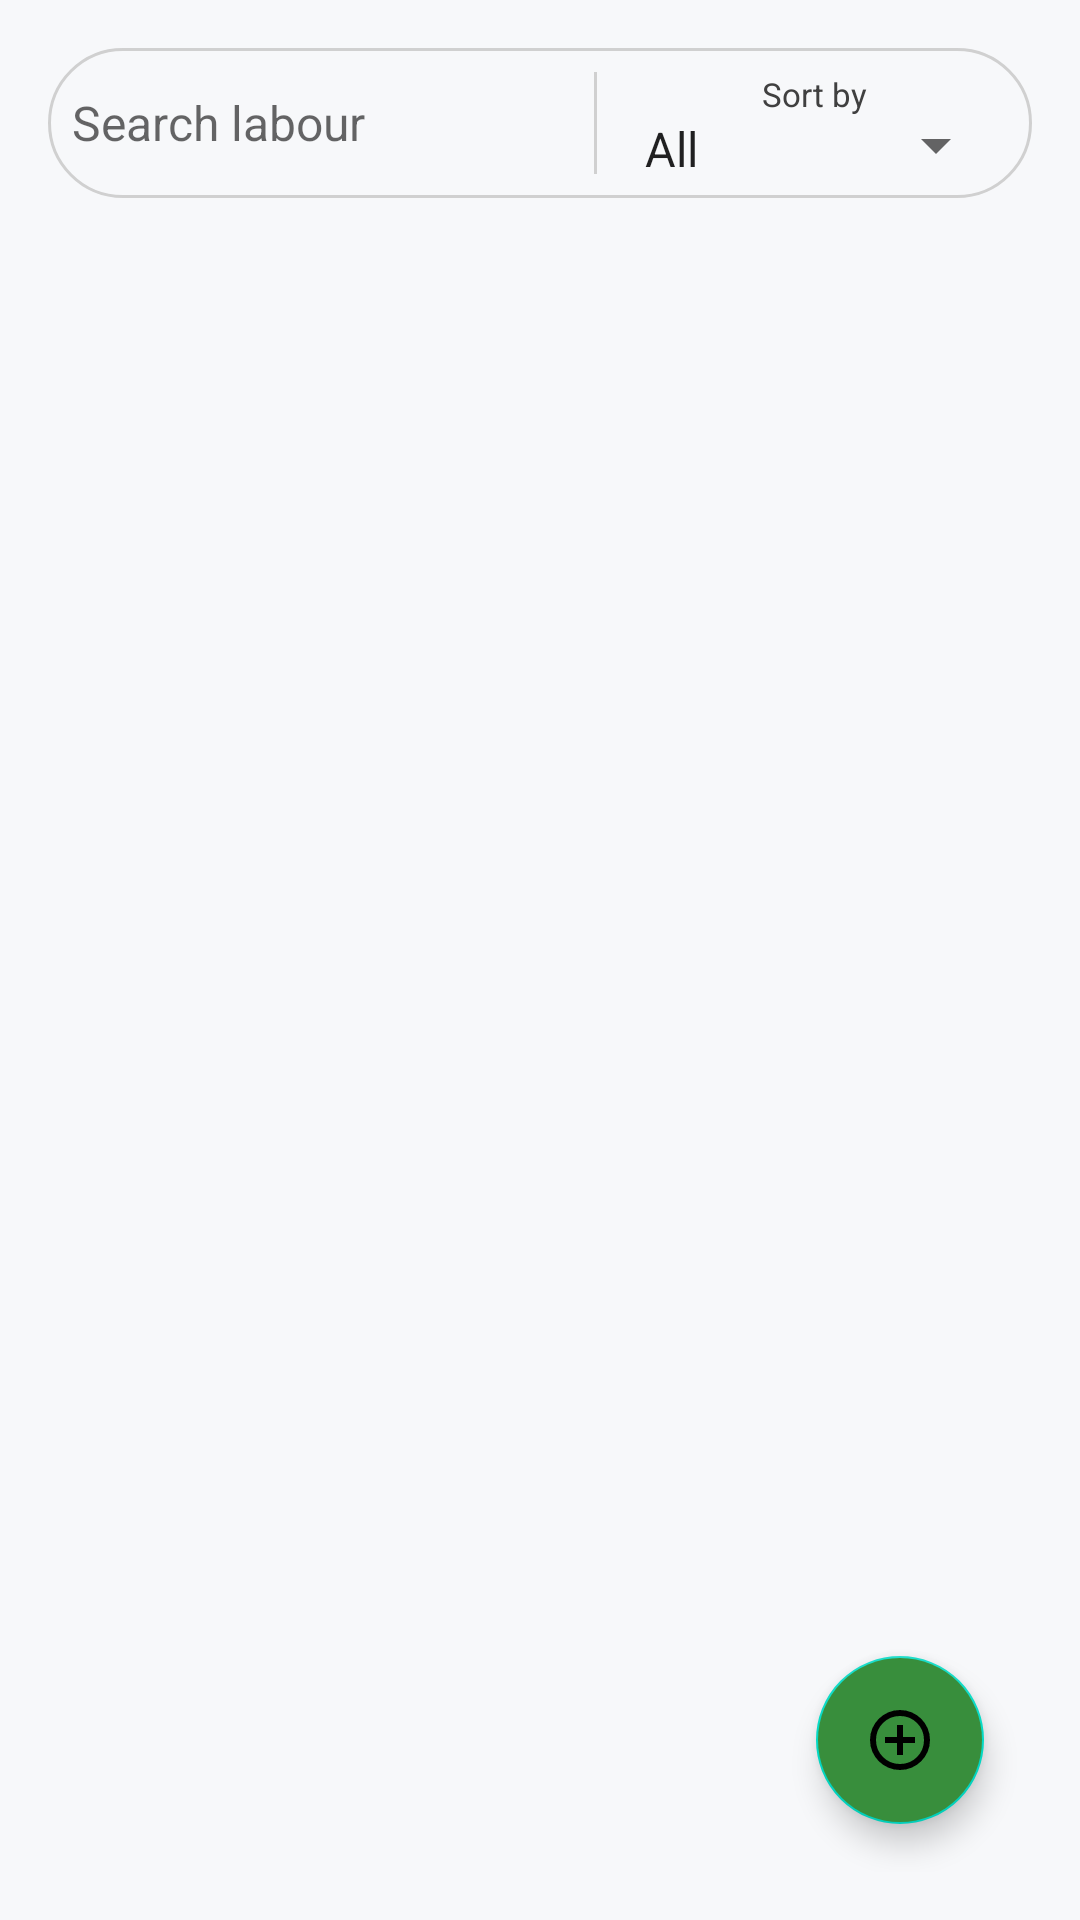

Named icons in this screenshot (1080*1920) and their centers, (x,y):
Add labour: (900,1740)
